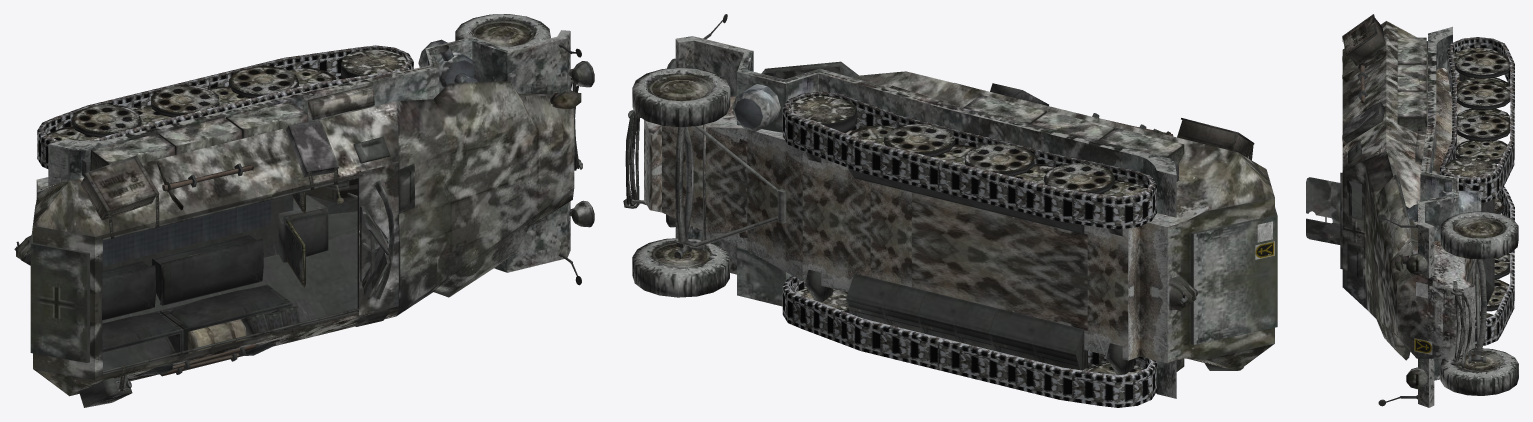
Rendered from vehicle_halftrack_mg_snow.glb.
3 renders of one model, left to right at view 1: azimuth 30°, elevation 25°; view 2: azimuth 150°, elevation 25°; view 3: azimuth 270°, elevation 25°, orthographic. The views are drawn at different scales.
Size of the model in its own units: 240 by 92.93 by 90.88.
Materials: 3 (3 with a texture image).
